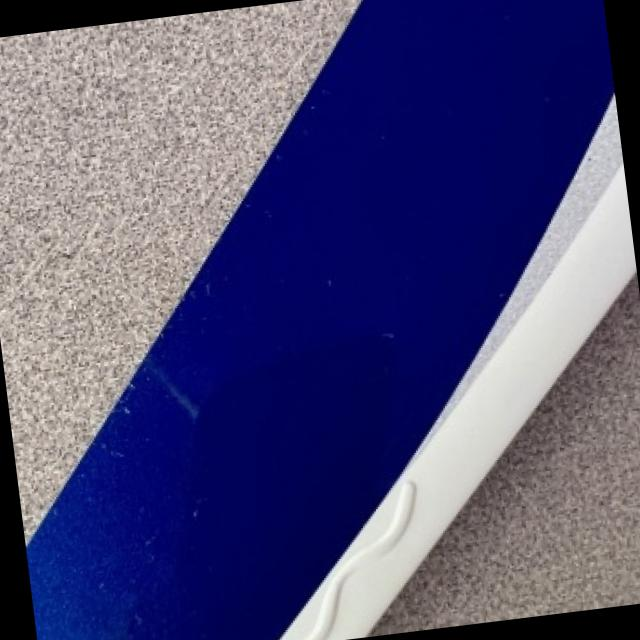healthy: (25, 0, 620, 640)
